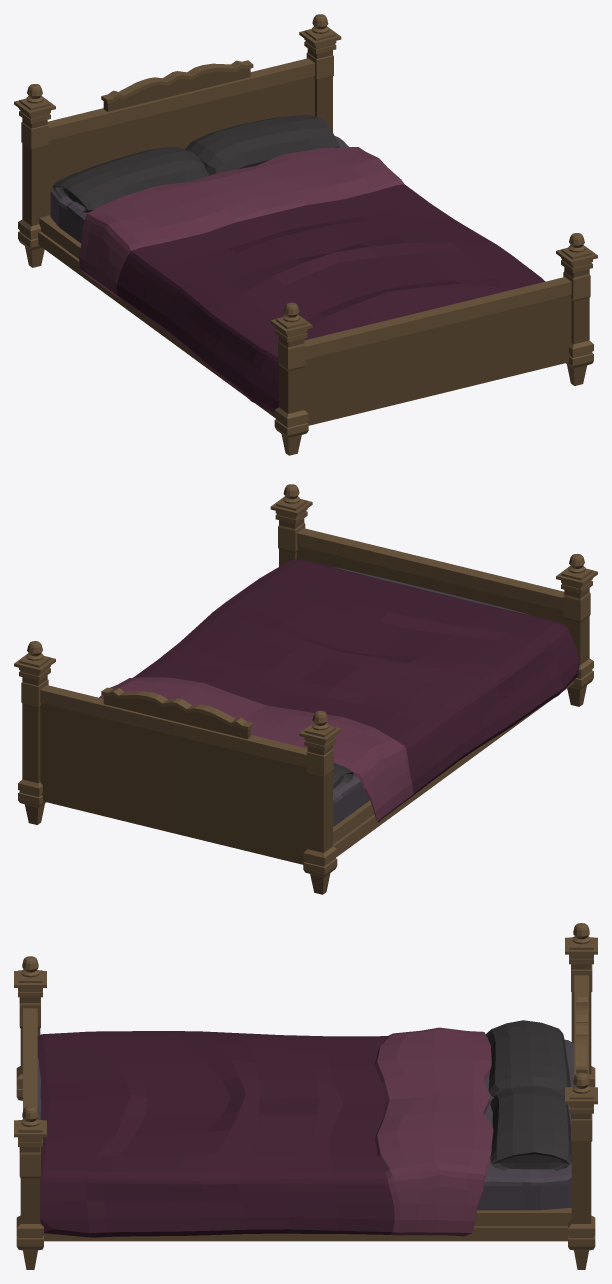
File: BedDouble.gltf
The picture shows the model from 3 angles, top to bottom: view 1: azimuth 30°, elevation 25°; view 2: azimuth 150°, elevation 25°; view 3: azimuth 270°, elevation 25°; orthographic projection. The views are drawn at different scales.
Visible parts, largest first — view 1: Comforter, BedFrame, Pillow2, Pillow, Mattress; view 2: Comforter, BedFrame, Mattress; view 3: Comforter, BedFrame, Pillow2, Pillow, Mattress.
Boxes of the visible parts, <box> form: Comforter: <box>79,147,545,413</box>; BedFrame: <box>14,14,597,455</box>; Pillow2: <box>185,115,339,175</box>; Pillow: <box>52,146,209,212</box>; Mattress: <box>50,136,348,243</box>; Comforter: <box>99,559,579,822</box>; BedFrame: <box>14,484,597,894</box>; Mattress: <box>333,566,528,826</box>; Comforter: <box>37,1027,493,1237</box>; BedFrame: <box>14,923,597,1269</box>; Pillow2: <box>490,1087,571,1170</box>; Pillow: <box>485,1020,570,1097</box>; Mattress: <box>37,1039,574,1210</box>.
Size of the model in its own units: 2.83 by 1.56 by 4.26.
